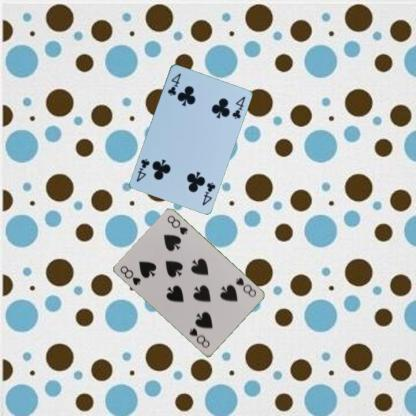4c: (199, 179, 217, 206), (165, 71, 182, 97)
8s: (233, 275, 257, 299), (117, 264, 142, 286)
